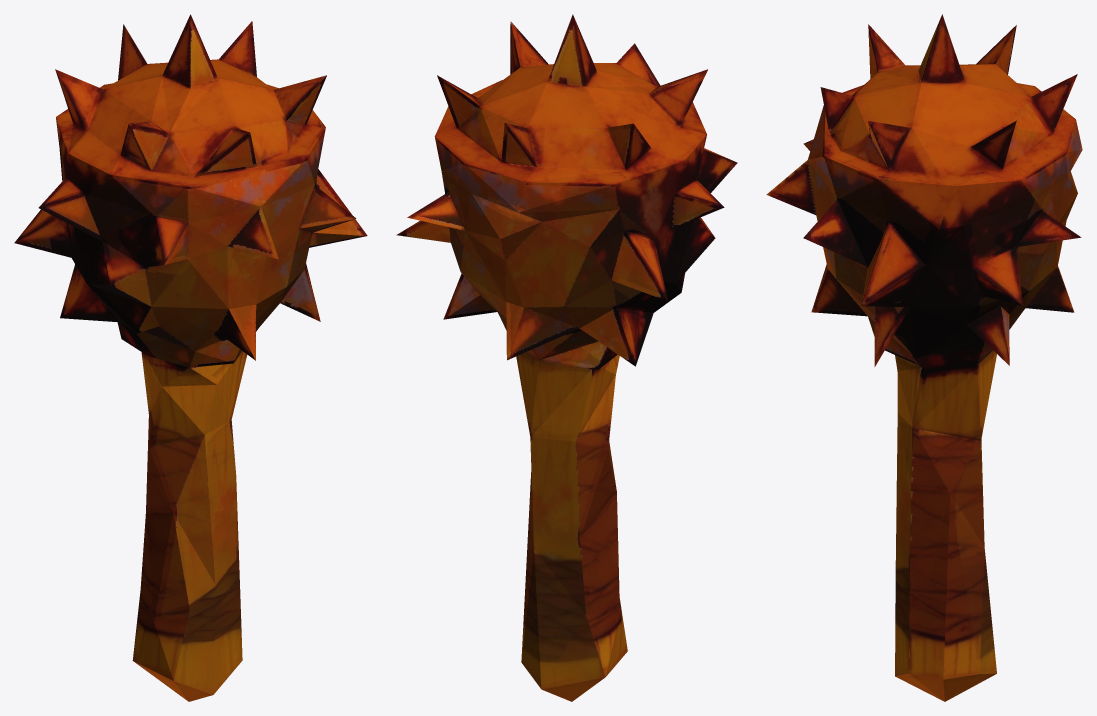
Rendered from crystal_mace.glb.
The picture shows the model from 3 angles, left to right: view 1: azimuth 30°, elevation 25°; view 2: azimuth 150°, elevation 25°; view 3: azimuth 270°, elevation 25°; orthographic projection.
Visible parts, largest first — view 1: TexturedMesh_.obj; view 2: TexturedMesh_.obj; view 3: TexturedMesh_.obj.
Part boxes in pixels (bbox=[...]): TexturedMesh_.obj: bbox=[14, 14, 367, 701]; TexturedMesh_.obj: bbox=[396, 14, 737, 701]; TexturedMesh_.obj: bbox=[766, 14, 1082, 701].
Size of the model in its own units: 0.8956 by 2.04 by 0.8495.
1 material, 1 textured.
